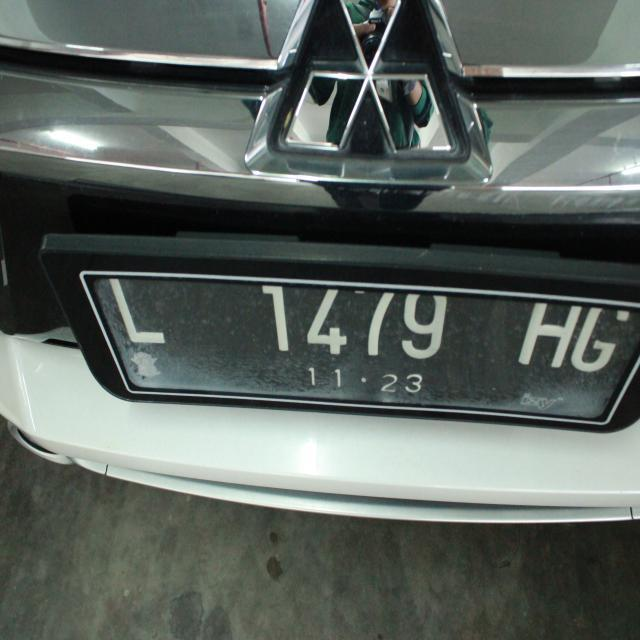1: (252, 268, 298, 366)
4: (294, 275, 351, 359)
7: (349, 277, 399, 365)
9: (394, 272, 450, 368)
G: (571, 279, 632, 381)
H: (514, 278, 584, 390)
L: (105, 270, 173, 350)
